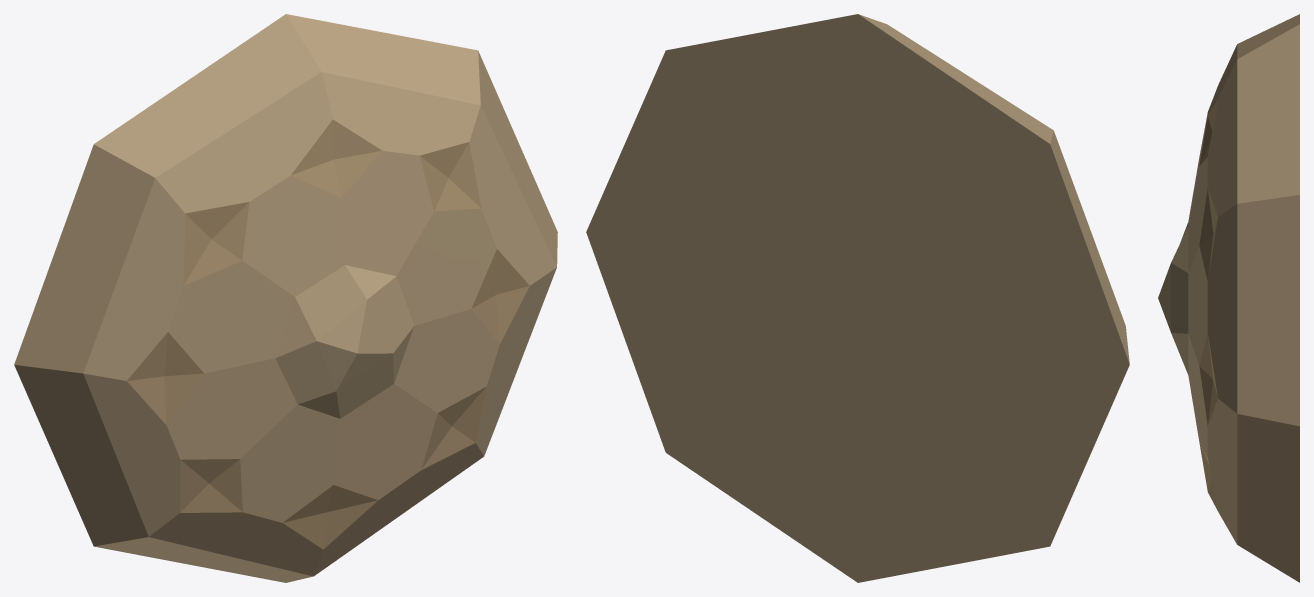
Rendered from ancient_SM_Bld_Ornament_05.gltf.
The picture shows the model from 3 angles, left to right: view 1: azimuth 30°, elevation 25°; view 2: azimuth 150°, elevation 25°; view 3: azimuth 270°, elevation 25°; orthographic projection. The views are drawn at different scales.
Visible parts, largest first — view 1: SM_Bld_Ornament_05; view 2: SM_Bld_Ornament_05; view 3: SM_Bld_Ornament_05.
Part boxes in pixels (box(x1,y1,x2,y2)): SM_Bld_Ornament_05: box(14, 14, 557, 582); SM_Bld_Ornament_05: box(586, 14, 1129, 582); SM_Bld_Ornament_05: box(1158, 14, 1299, 582).
Bounding box in the file's own units: 0.7413 × 0.7413 × 0.1738.
1 material, 1 textured.
